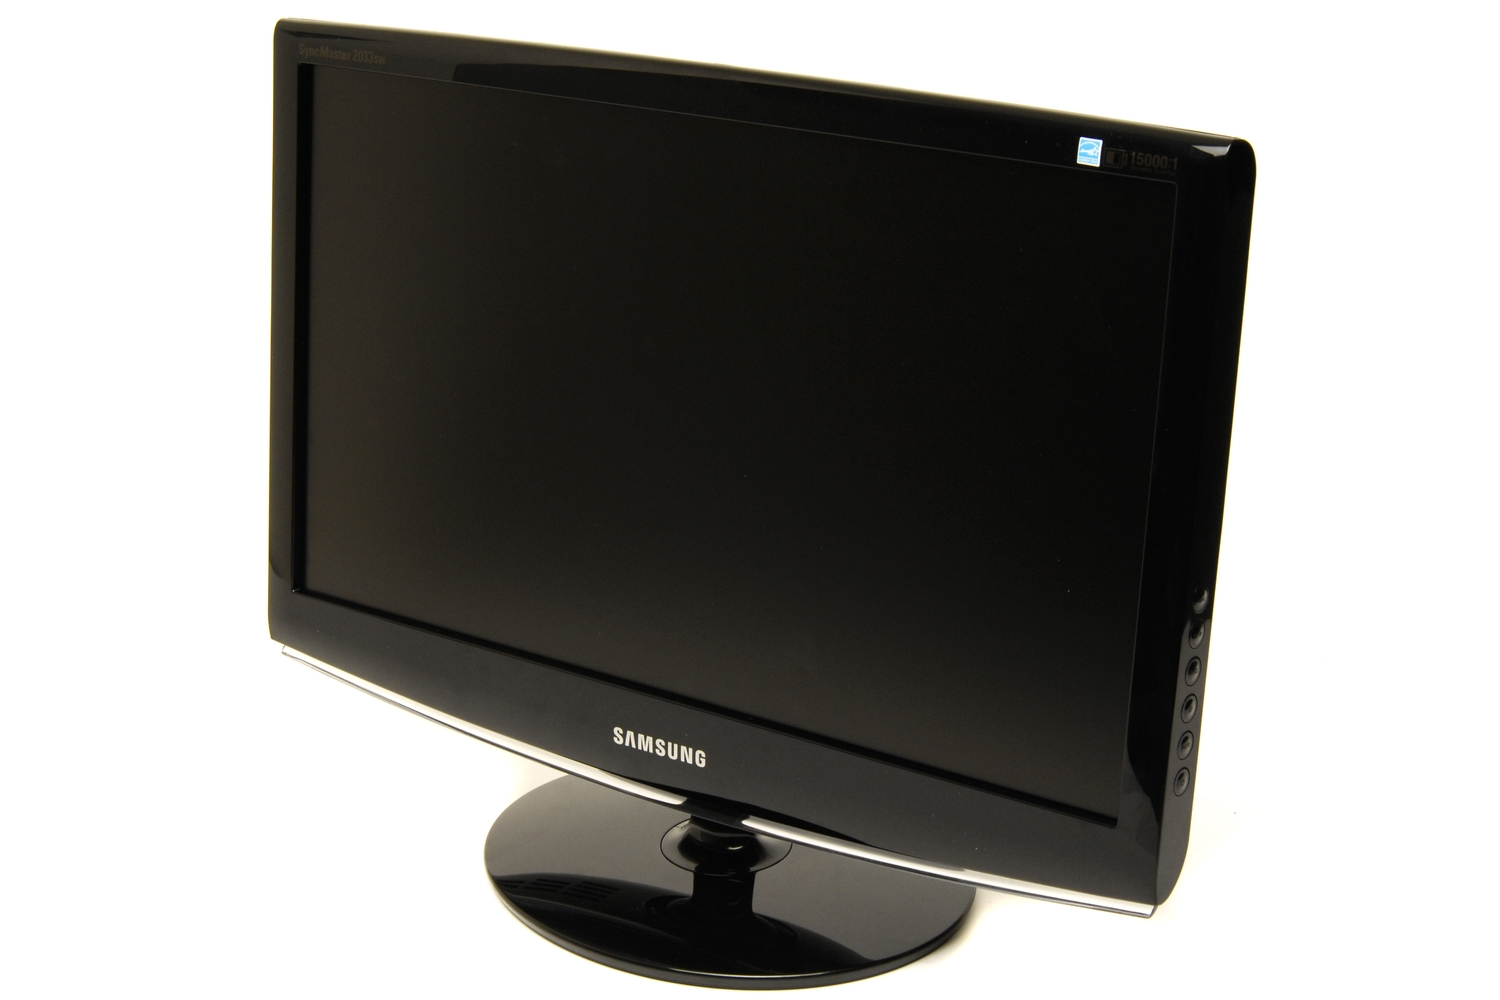samsung-monitor-b2030: (250, 25, 1292, 984)
